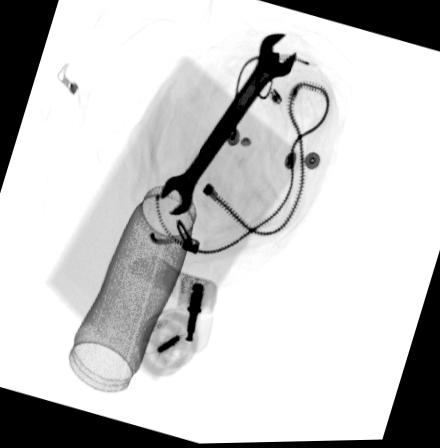Wrench: (158, 34, 297, 217)
